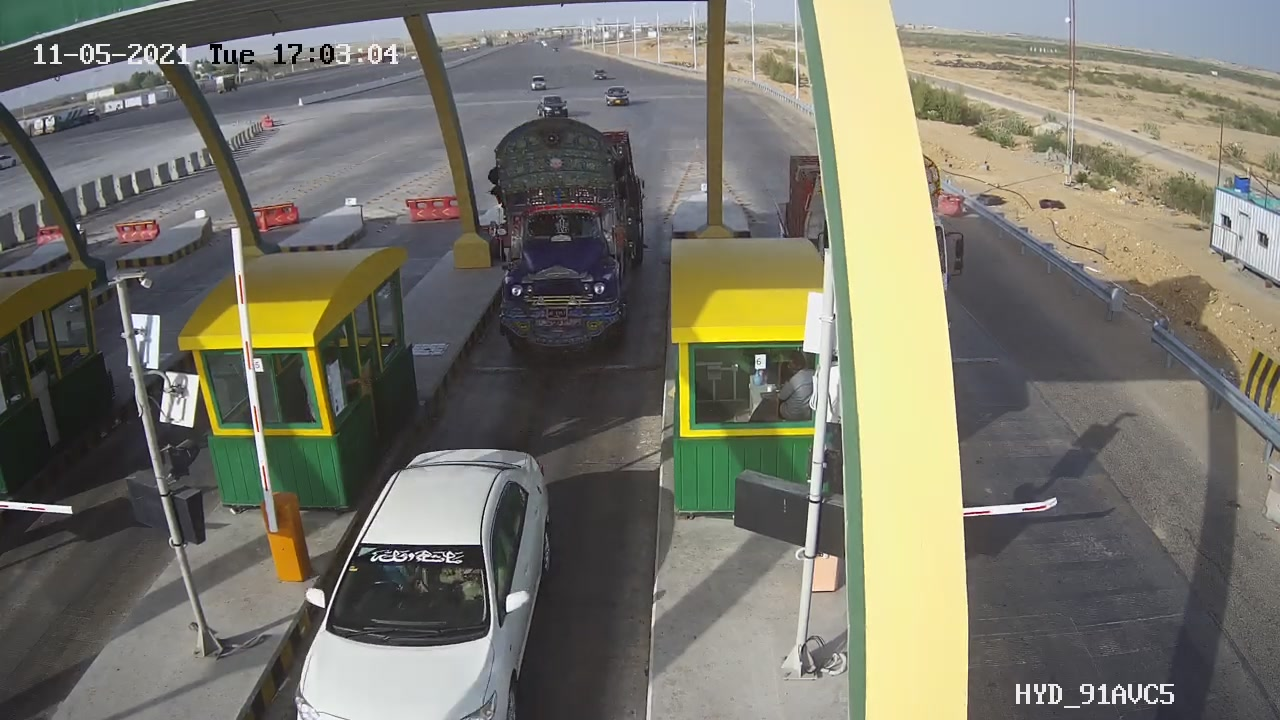F5: (460, 95, 672, 377)
